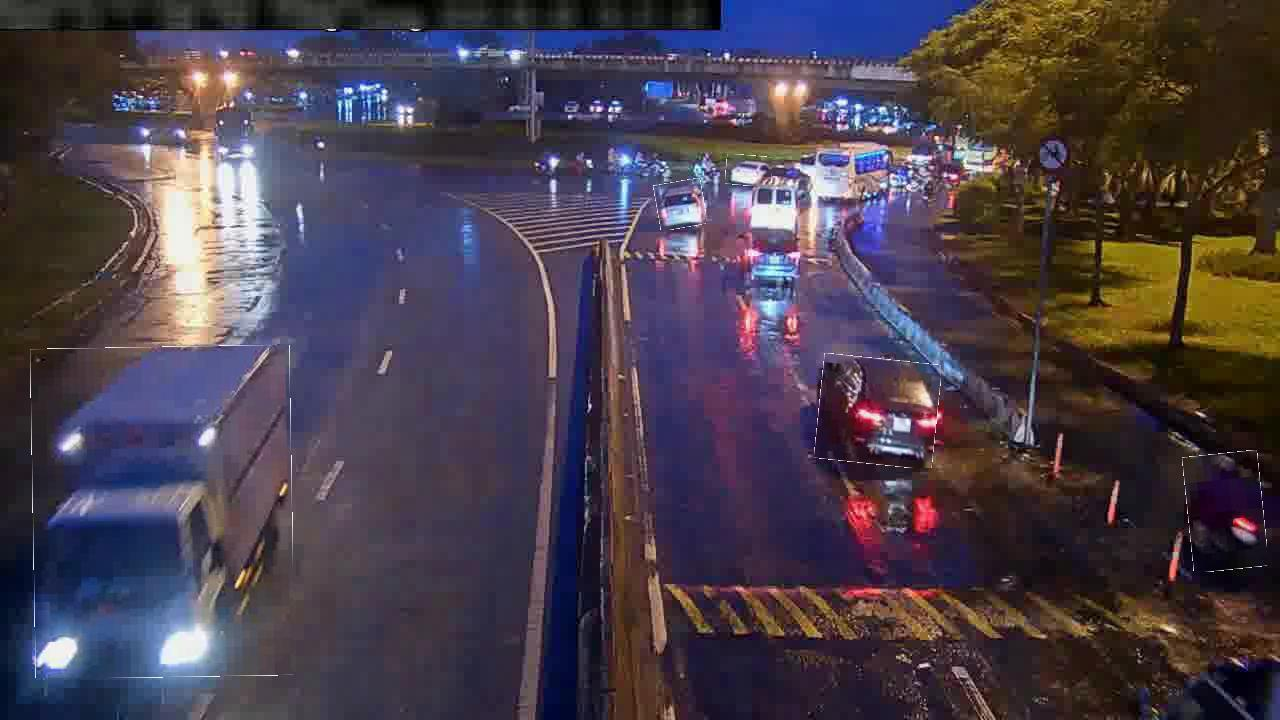8: (32, 346, 293, 678)
container: (816, 356, 940, 467), (655, 180, 706, 230), (726, 155, 773, 187)
motorbike: (1185, 452, 1266, 572)
